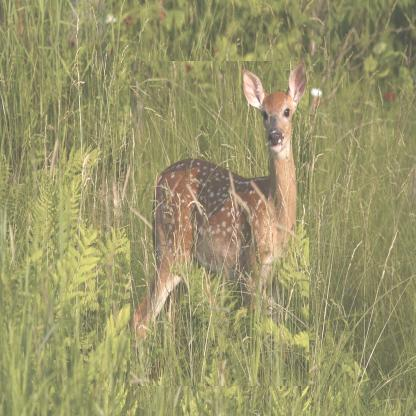Deer: (130, 61, 309, 386)
